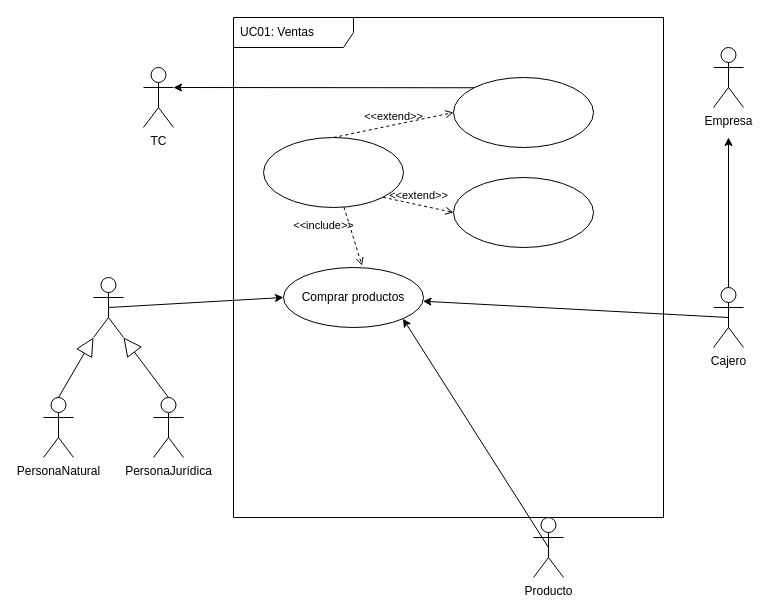
Image size: 770x616. Some labels were removed from this diagram. Each missing label, with the centre of its shape:
Cliente: the point at 108,307
Pagar compra: the point at 333,172
Pagar en efectivo: the point at 523,212
Pagar en TC: the point at 523,112
